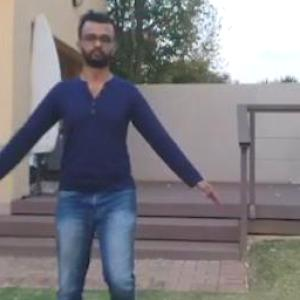land: (5, 30, 211, 299)
